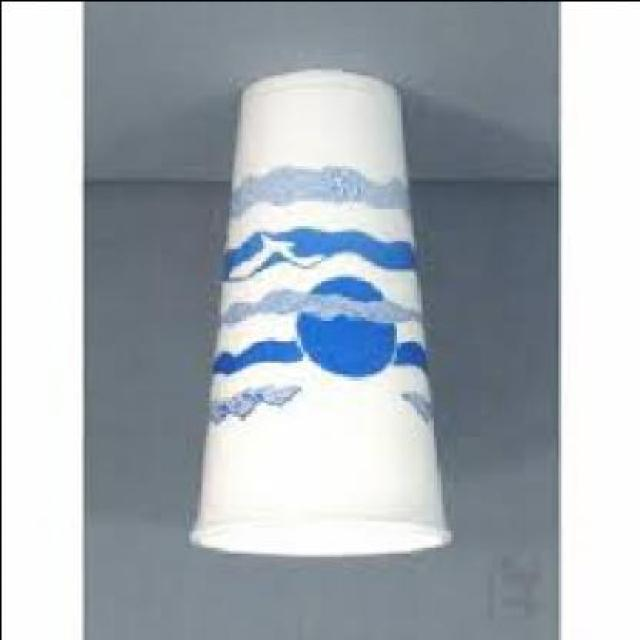PAPER: (182, 69, 449, 558)
